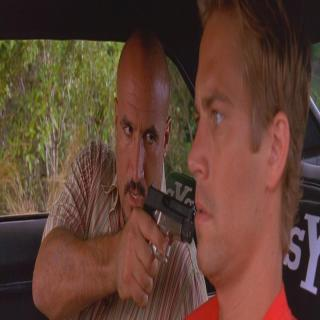gun: (129, 167, 199, 296)
